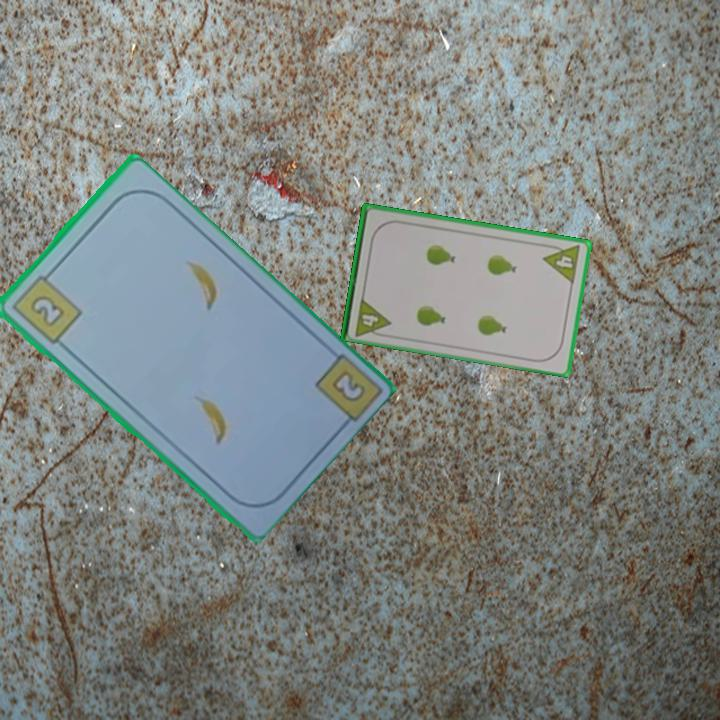2b: (7, 266, 84, 347), (327, 367, 368, 406)
4p: (540, 240, 584, 286), (351, 294, 393, 340)
